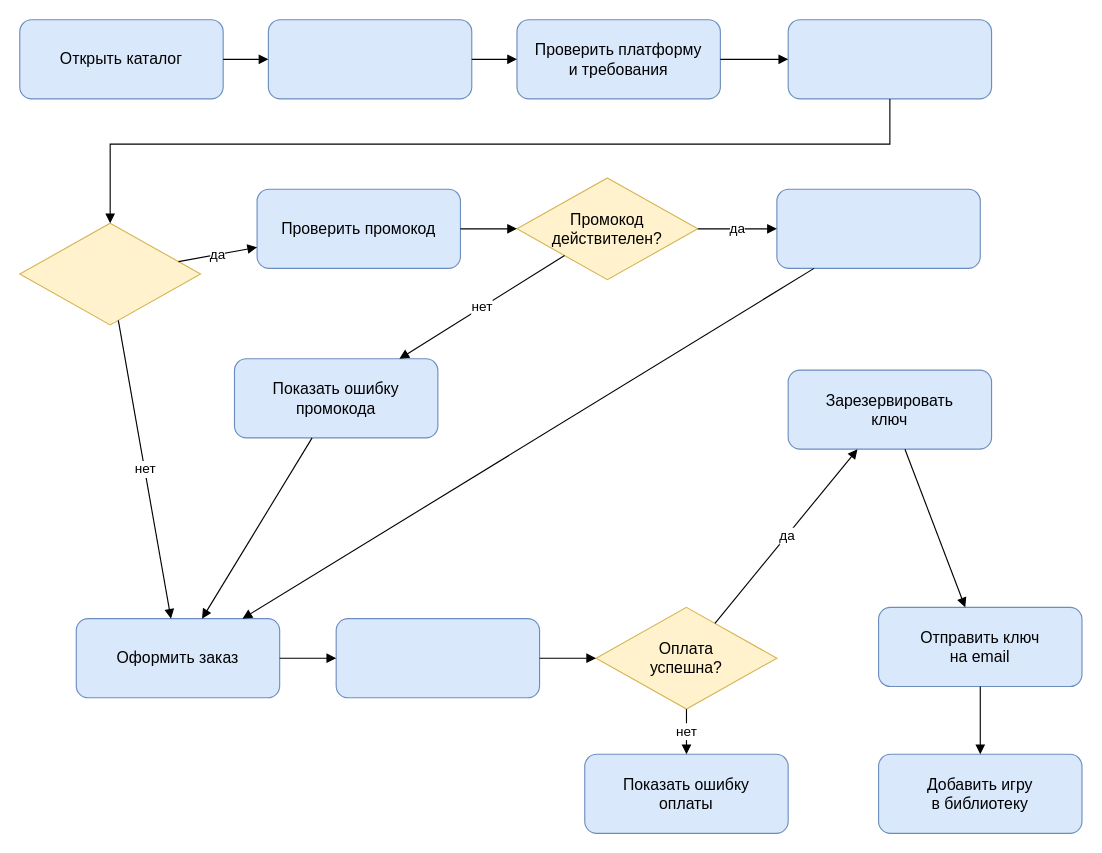
Some shapes in this 1102 by 853 pixel diagram are drawn without their labels. Each missing label, with the centre of its shape:
"Выбрать игру" belongs at point (369, 59).
"Добавить в корзину" belongs at point (889, 59).
"Есть промокод?" belongs at point (110, 273).
"Оплатить через ЮKassa" belongs at point (437, 658).
"Пересчитать сумму со скидкой" belongs at point (878, 228).
